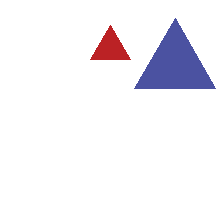triangle: (134, 18, 215, 88), (90, 25, 130, 59)
